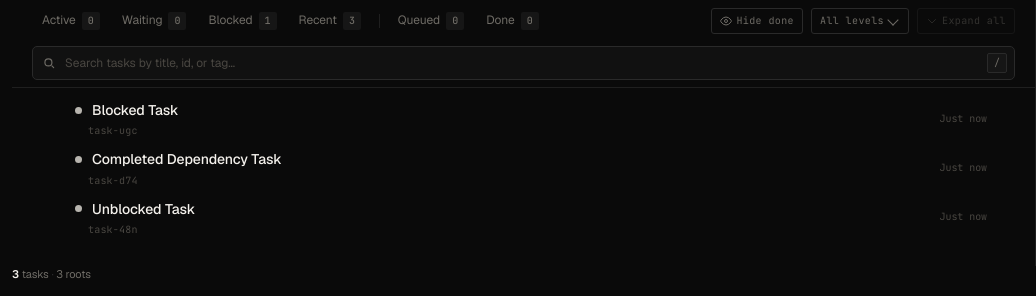
TasksPage › uses the server blocked state instead of dependency presence
The image size is (1036, 296).
Click the button named "blocked1".
click(243, 21)  # box 198,10 -> 287,32
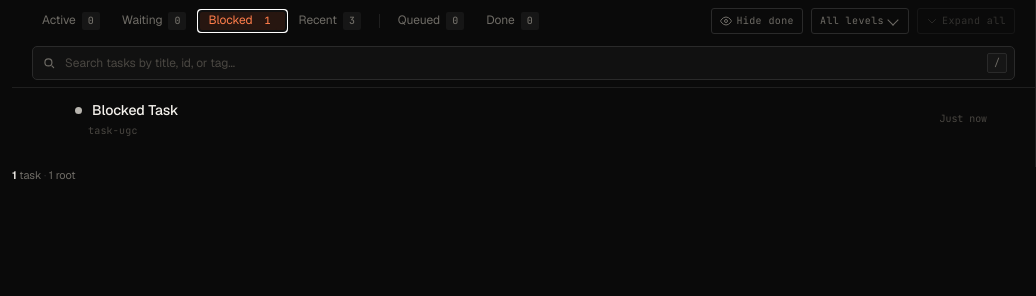
Expected: the text "Blocked Task" is shown, 92,101 -> 178,119
Expected: the text "Completed Dependency Task" is gone
Expected: the text "Unblocked Task" is gone
